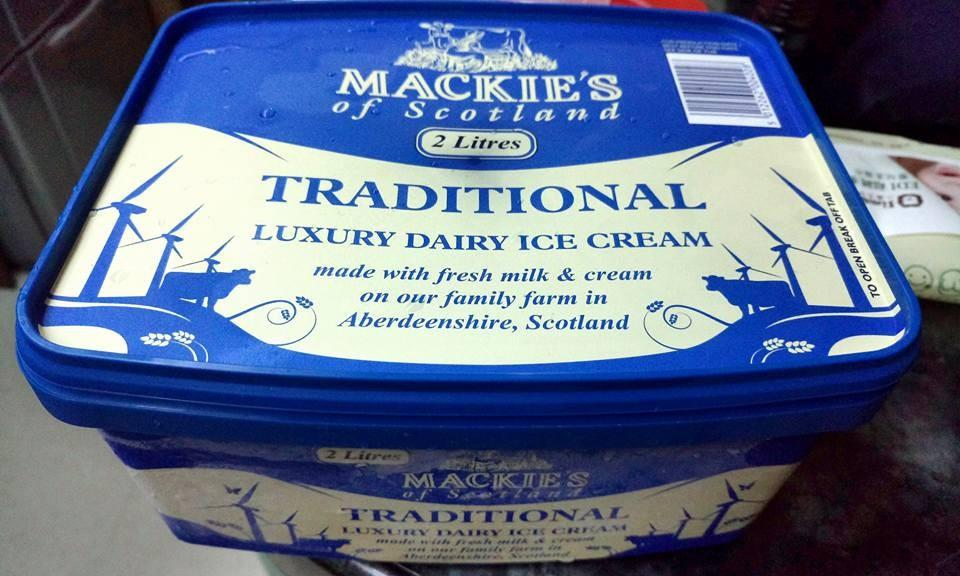plastic: (17, 2, 919, 570)
